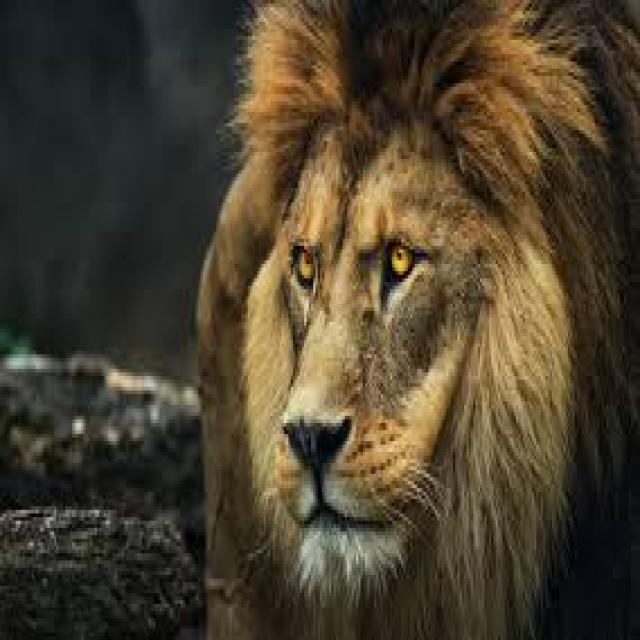Lion: (250, 13, 578, 617)
